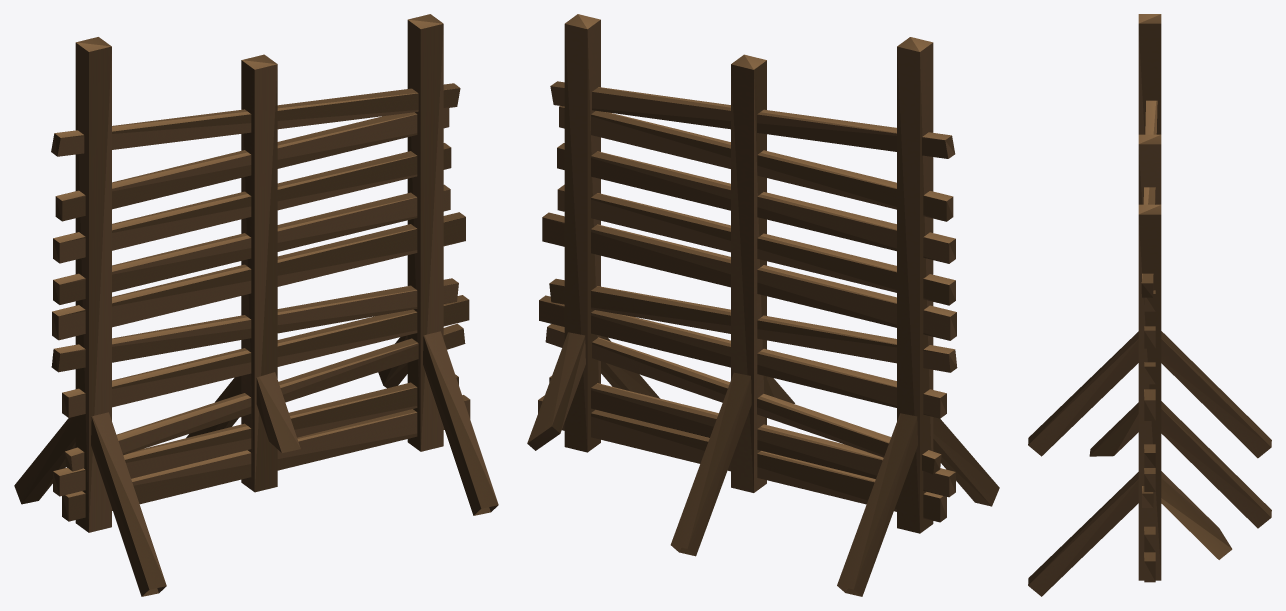
The model's file is Wood_2A.fbx.
3 renders of one model, left to right at view 1: azimuth 30°, elevation 25°; view 2: azimuth 150°, elevation 25°; view 3: azimuth 270°, elevation 25°, orthographic. The views are drawn at different scales.
Parts seen in each view (by area): view 1: polySurface1087; view 2: polySurface1087; view 3: polySurface1087.
Part boxes in pixels (left/top/right/bottom): polySurface1087: left=14, top=14, right=498, bottom=596; polySurface1087: left=527, top=14, right=999, bottom=596; polySurface1087: left=1028, top=14, right=1271, bottom=596.
Size of the model in its own units: 718 by 838 by 424.
1 material, 1 textured.
